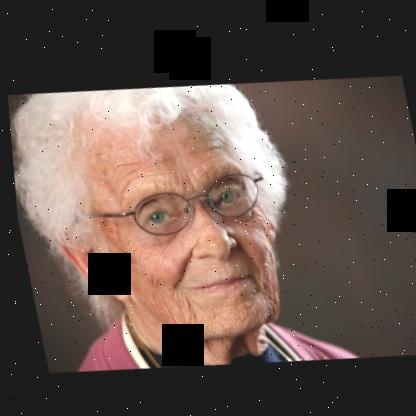Female: (31, 85, 288, 360)
